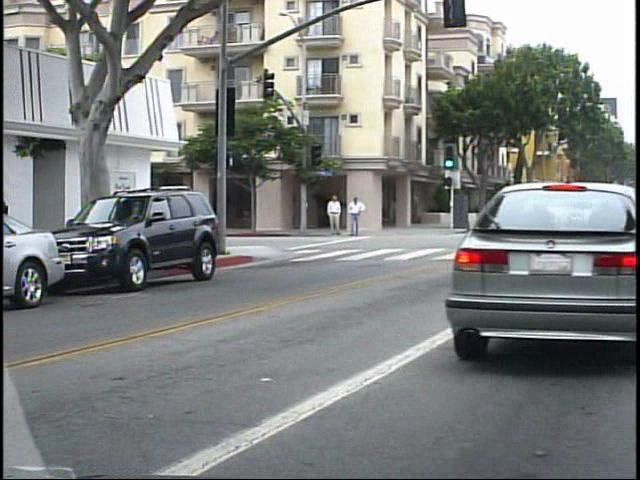person: (324, 192, 344, 243), (344, 193, 363, 238)
